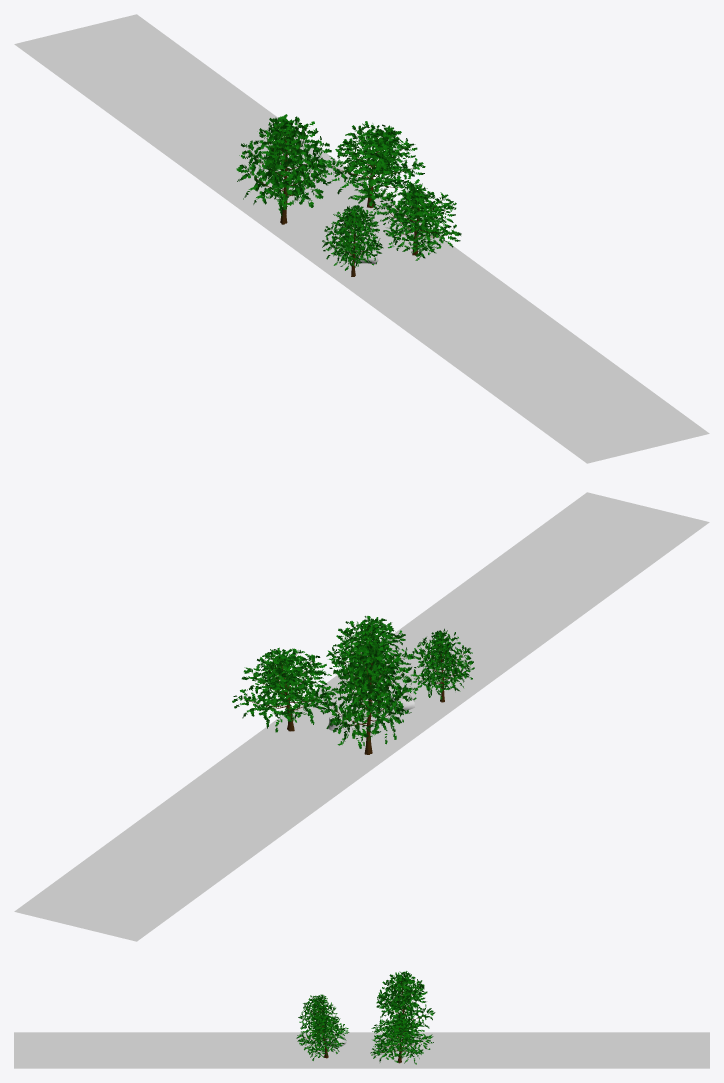
File: Basic 3.fbx
3 views of the same model, one above another, from view 1: azimuth 30°, elevation 25°; view 2: azimuth 150°, elevation 25°; view 3: azimuth 270°, elevation 25° (orthographic). The views are drawn at different scales.
Parts seen in each view (by area): view 1: Plane001, Foliage006, Foliage004, Foliage001, Foliage003; view 2: Plane001, Foliage006, Foliage004, Foliage003, Foliage001; view 3: Plane001, Foliage006, Foliage004, Foliage001, Foliage003.
Part boxes in pixels (<box>): Plane001: <box>14,14,709,463</box>; Foliage006: <box>236,114,331,224</box>; Foliage004: <box>320,121,425,214</box>; Foliage001: <box>377,184,461,260</box>; Foliage003: <box>322,205,383,276</box>; Plane001: <box>14,492,709,941</box>; Foliage006: <box>322,641,417,754</box>; Foliage004: <box>232,647,338,732</box>; Foliage003: <box>410,628,474,702</box>; Foliage001: <box>326,616,414,682</box>; Plane001: <box>14,1032,709,1068</box>; Foliage006: <box>376,971,435,1036</box>; Foliage004: <box>370,1014,433,1064</box>; Foliage001: <box>296,1014,349,1060</box>; Foliage003: <box>298,994,338,1033</box>.
Size of the model in its own units: 1329 by 858 by 8000.
